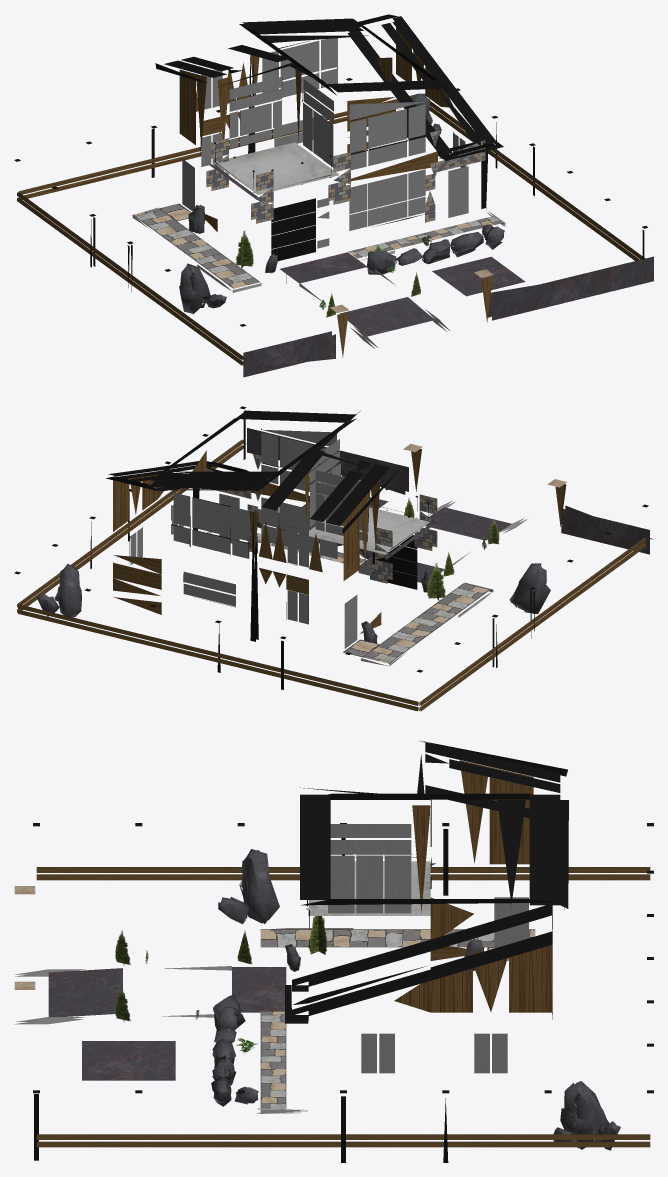
Rendered from house-real-1s.glb.
The picture shows the model from 3 angles, top to bottom: view 1: azimuth 30°, elevation 25°; view 2: azimuth 150°, elevation 25°; view 3: azimuth 270°, elevation 25°; orthographic projection. The views are drawn at different scales.
Visible parts, largest first — view 1: Path, Roof 3, Front fence 2, Roof Main, Window front 2nd floor.001, Driveway, Window front 1st floor, Balcony wood floor, Garage door, Window front 2nd floor.002, Fence, Front fence (+24 smaller); view 2: Fence.002, Window front 2nd floor.002, Roof Main, Path, Roof 2, Fence, Front fence, Fence.001, Window front 1st floor, Ref house, Front fence 2, Balcony wood floor (+22 smaller); view 3: Roof Main, Fence.001, Roof 3, Ref house.006, Path, Driveway, Fence, Front lawn design, Ref house.002, Roof 2, Balcony Glass door 2, rocks (+13 smaller).
Part boxes in pixels (left/top/right/bottom): Path: left=133, top=203, right=502, bottom=288; Roof 3: left=347, top=14, right=496, bottom=159; Front fence 2: left=488, top=256, right=653, bottom=320; Roof Main: left=242, top=18, right=448, bottom=95; Window front 2nd floor.001: left=350, top=104, right=426, bottom=170; Driveway: left=280, top=252, right=434, bottom=336; Window front 1st floor: left=349, top=169, right=425, bottom=230; Balcony wood floor: left=213, top=142, right=339, bottom=194; Garage door: left=271, top=197, right=329, bottom=261; Window front 2nd floor.002: left=260, top=38, right=337, bottom=97; Fence: left=17, top=192, right=243, bottom=365; Front fence: left=243, top=331, right=335, bottom=377; Fence.002: left=18, top=604, right=418, bottom=711; Window front 2nd floor.002: left=171, top=492, right=249, bottom=558; Roof Main: left=151, top=410, right=356, bottom=488; Path: left=257, top=533, right=489, bottom=663; Roof 2: left=262, top=448, right=389, bottom=525; Fence: left=419, top=538, right=646, bottom=711; Front fence: left=561, top=505, right=652, bottom=554; Fence.001: left=17, top=439, right=243, bottom=612; Window front 1st floor: left=261, top=497, right=337, bottom=558; Ref house: left=113, top=555, right=161, bottom=614; Front fence 2: left=246, top=428, right=408, bottom=494; Balcony wood floor: left=309, top=507, right=429, bottom=554; Roof Main: left=300, top=793, right=560, bottom=905; Fence.001: left=36, top=1134, right=650, bottom=1147; Roof 3: left=292, top=905, right=552, bottom=1020; Ref house.006: left=394, top=944, right=552, bottom=1012; Path: left=260, top=929, right=535, bottom=1108; Driveway: left=48, top=967, right=286, bottom=1016; Fence: left=36, top=867, right=650, bottom=880; Front lawn design: left=82, top=1041, right=175, bottom=1080; Ref house.002: left=430, top=760, right=533, bottom=960; Roof 2: left=425, top=742, right=560, bottom=818; Balcony Glass door 2: left=356, top=854, right=411, bottom=913; rocks: left=211, top=994, right=258, bottom=1106.
Size of the model in its own units: 20.97 by 8.57 by 20.97.
4 materials, 4 textured.
